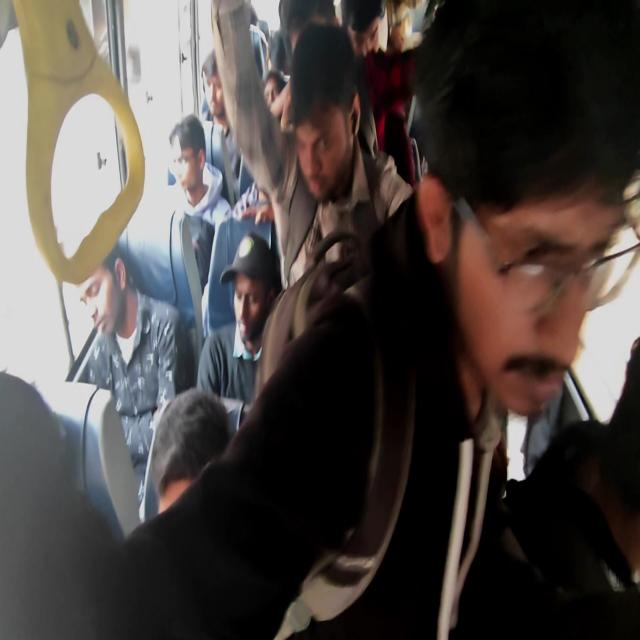person: (435, 37, 640, 447), (161, 418, 250, 543), (64, 228, 148, 338), (298, 51, 354, 204), (276, 0, 340, 81), (168, 137, 209, 221), (230, 260, 272, 337), (258, 63, 290, 147), (344, 0, 388, 54), (204, 60, 234, 127), (240, 0, 265, 43)
